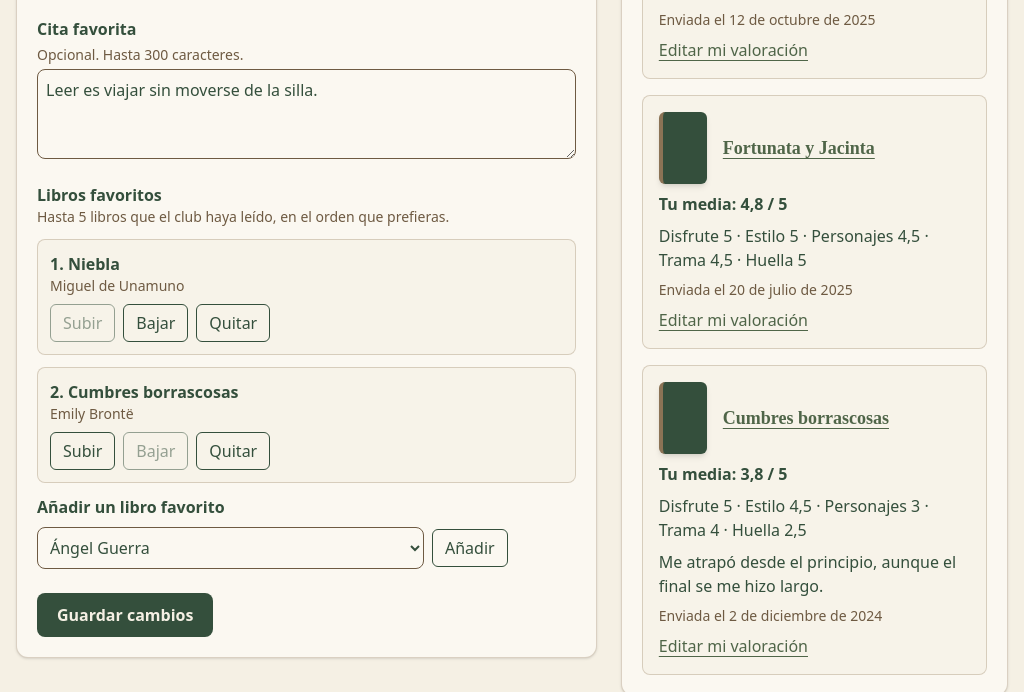
it: Profile form: favourite books › reorders with «Subir» and «Bajar», keeping focus on the moved book
(page scrolled)
Expected: the button named "Subir «Niebla»" is disabled, [50,304,115,342]
Expected: the button named "Bajar «Cumbres borrascosas»" is disabled, [123,432,188,470]
Click the button named "Bajar «Niebla»".
click(156, 323)  # box [123,304,188,342]
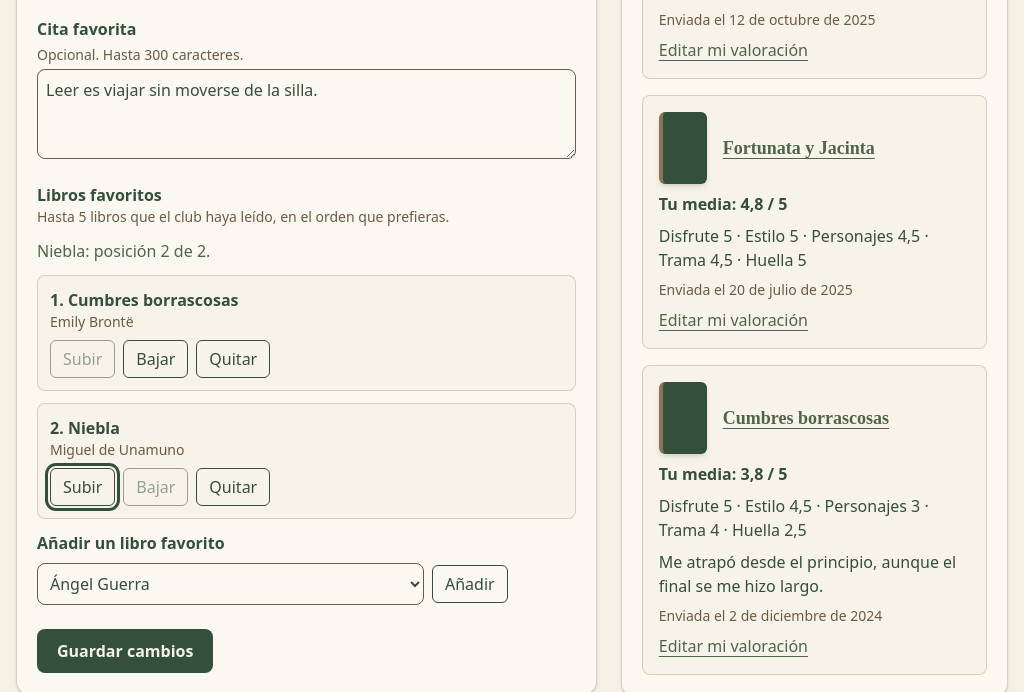
Expected: the message reads "Niebla: posición 2 de 2.", [37,240,210,262]
Select "Ángel Guerra" in the dropdown labelled "Añadir un libro favorito" at coordinates (230, 584), box [37,563,424,605]
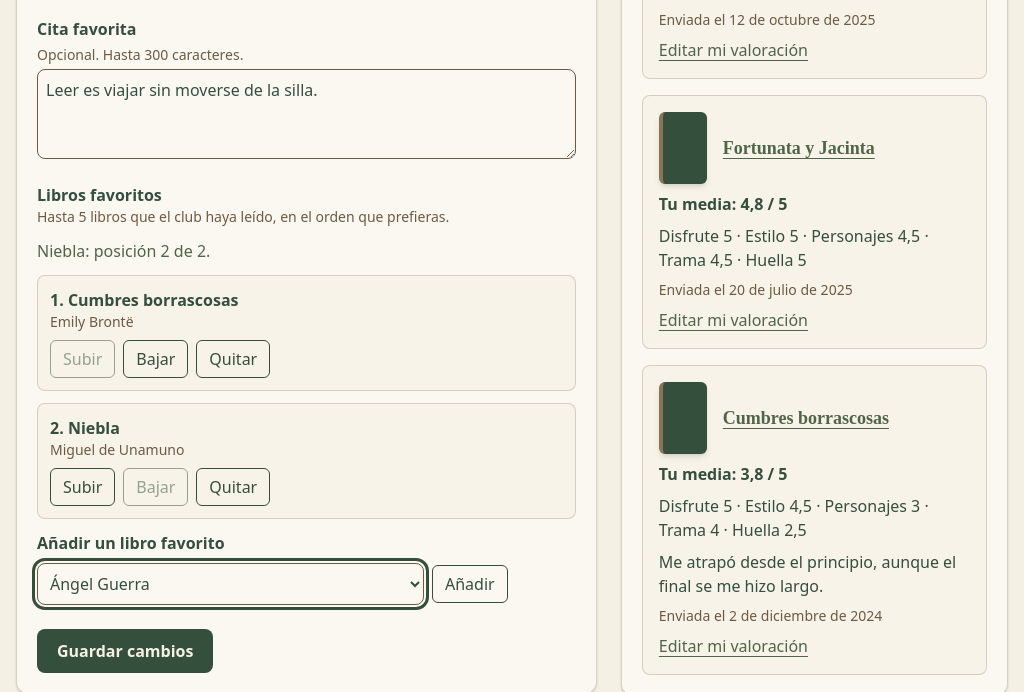
Click the button "Añadir".
click(470, 584)  # box [432,565,508,603]
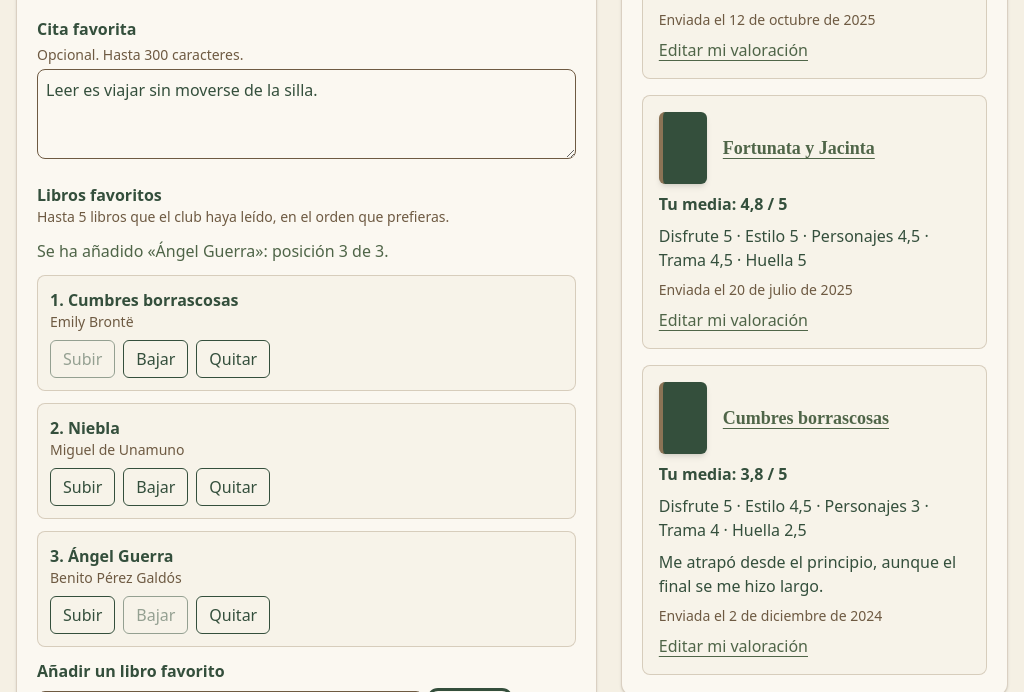
Click the button named "Subir «Ángel Guerra»".
click(83, 615)  # box [50,596,115,634]
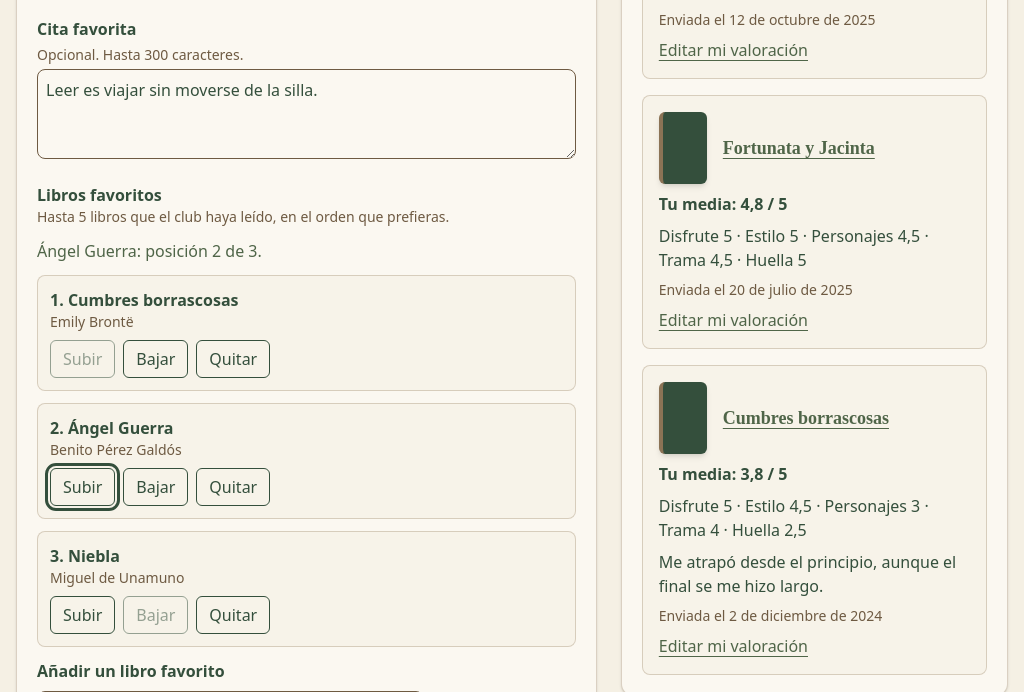
Press Enter
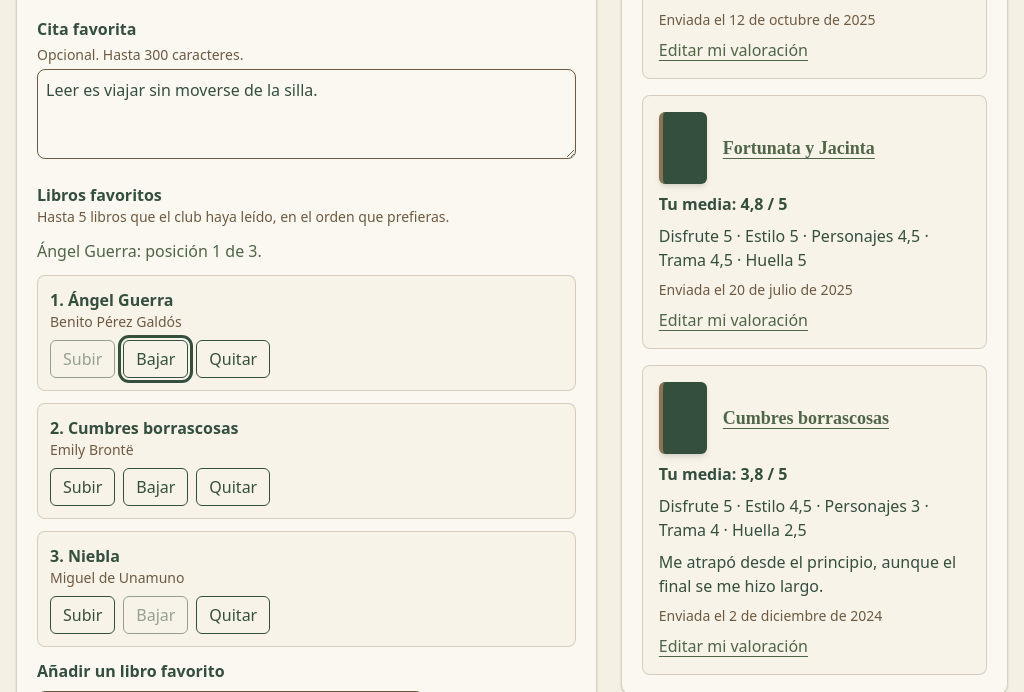
Expected: the message reads "Ángel Guerra: posición 1 de 3.", [37,240,262,262]
